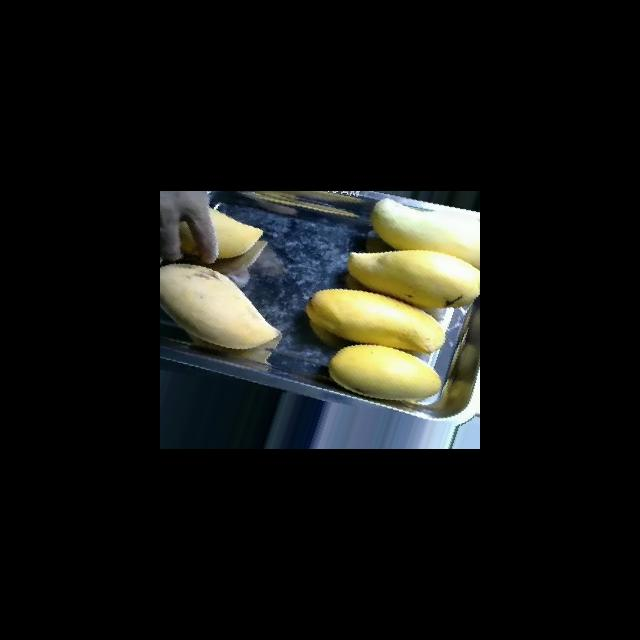mango: (160, 262, 281, 350), (328, 343, 442, 401)
